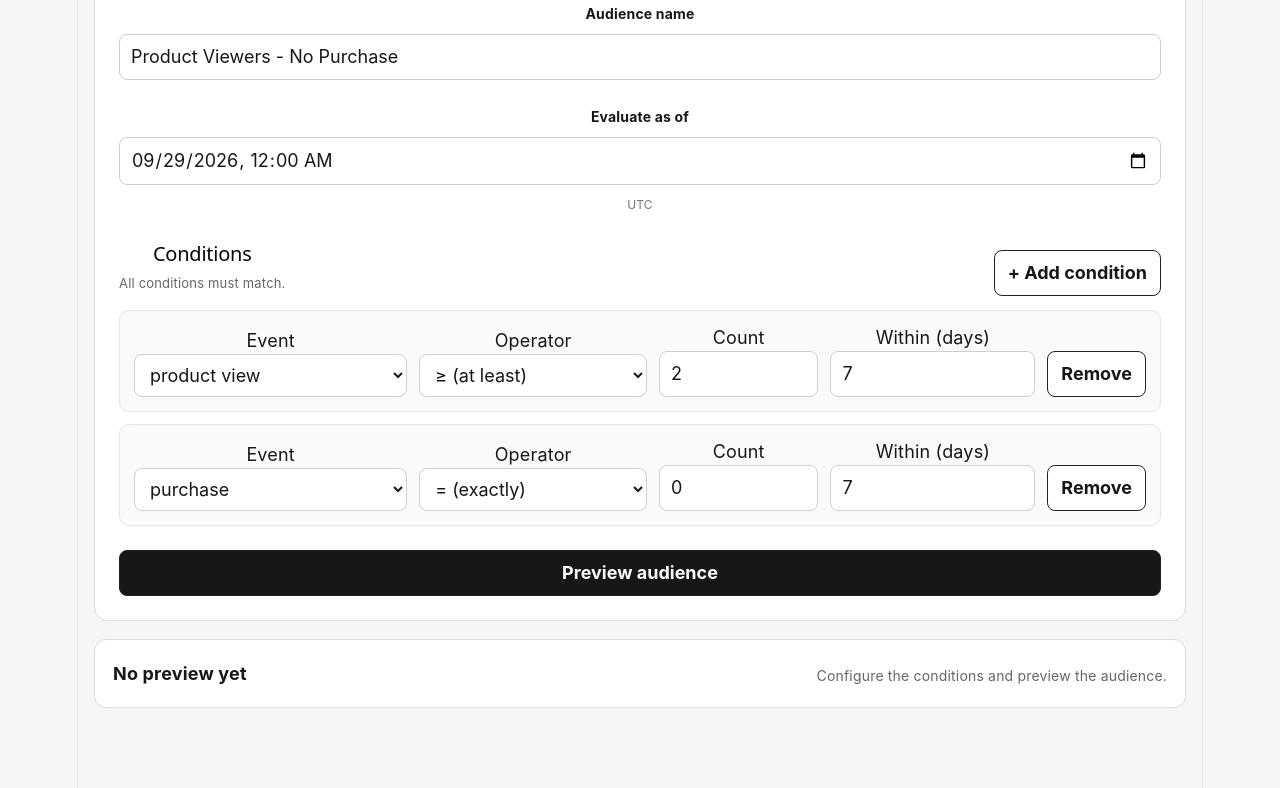
it: AudienceBuilder › successful preview displays the returned audience size
(page scrolled)
Note: Click preview button
Click the button "Preview audience" at (640, 573), box [119,550,1161,596]
(page scrolled)
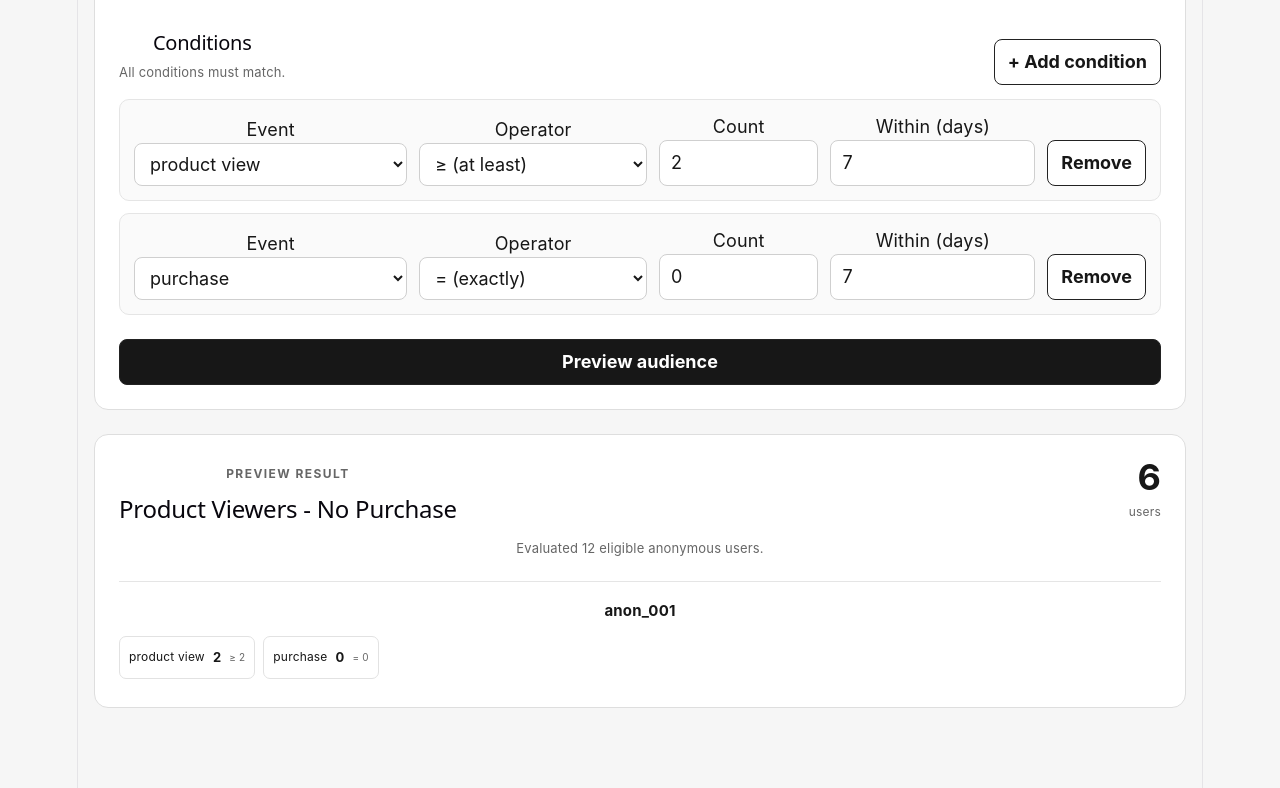
expect the text "Preview result" is shown: met, box [226,466,350,481]
expect the text "6" is shown: met, box [1137,455,1161,499]
expect the text "users" is shown: met, box [1129,504,1161,519]
